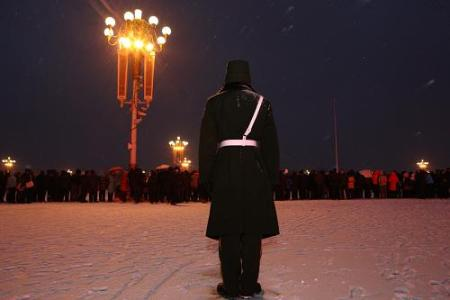10+: (1, 55, 450, 300)
